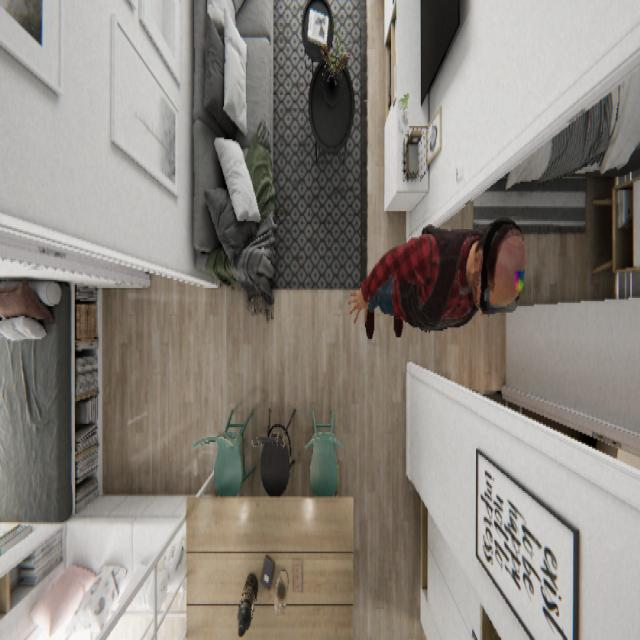Colored-Marker: (512, 265, 526, 295)
Human: (347, 214, 527, 339)
